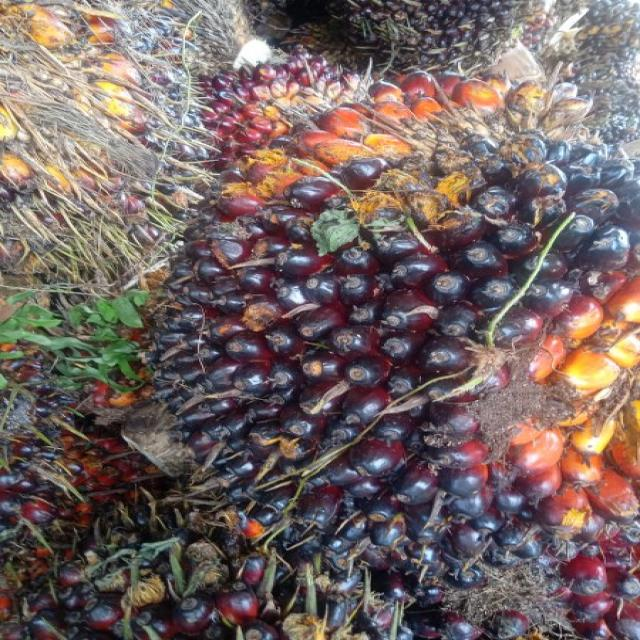fraksi 1: (149, 96, 640, 595)
